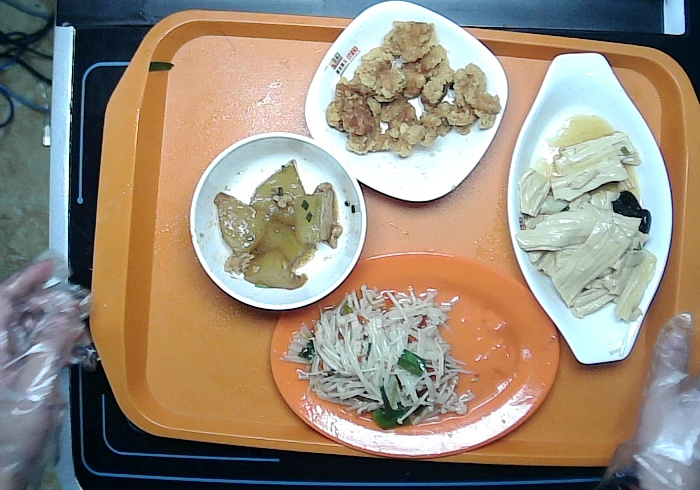NLDX-Bai_Se_Xiao_Fang_Die: (305, 1, 511, 202)
NLDX-Fan_Wan: (189, 132, 368, 311)
NLDX-Ju_Se_Pan: (271, 251, 561, 459)
NLDX-Yu_Pan: (507, 52, 673, 365)
